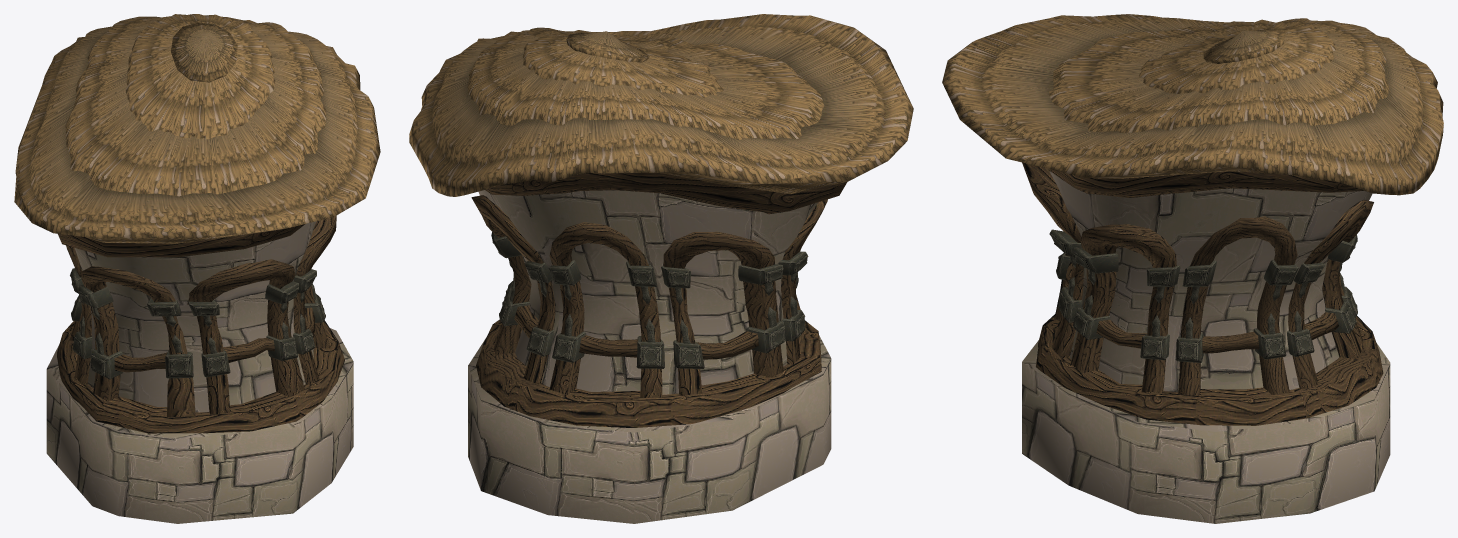
File: house 4.fbx
The picture shows the model from 3 angles, left to right: view 1: azimuth 30°, elevation 25°; view 2: azimuth 150°, elevation 25°; view 3: azimuth 270°, elevation 25°; orthographic projection. The views are drawn at different scales.
Parts seen in each view (by area): view 1: node_id206, node_id208, node_id212, node_id210; view 2: node_id206, node_id208, node_id212, node_id210; view 3: node_id206, node_id208, node_id212, node_id210.
Part boxes in pixels (<box>): node_id206: <box>46,221,353,523</box>; node_id208: <box>14,14,380,243</box>; node_id212: <box>57,215,344,433</box>; node_id210: <box>65,16,326,196</box>; node_id206: <box>468,190,831,523</box>; node_id208: <box>409,14,913,196</box>; node_id212: <box>471,172,847,427</box>; node_id210: <box>467,27,824,139</box>; node_id206: <box>1022,116,1390,523</box>; node_id208: <box>942,14,1443,195</box>; node_id212: <box>1022,162,1383,425</box>; node_id210: <box>1049,18,1388,132</box>.
Size of the model in its own units: 0.486 by 0.512 by 0.5402.
4 materials, 4 textured.
